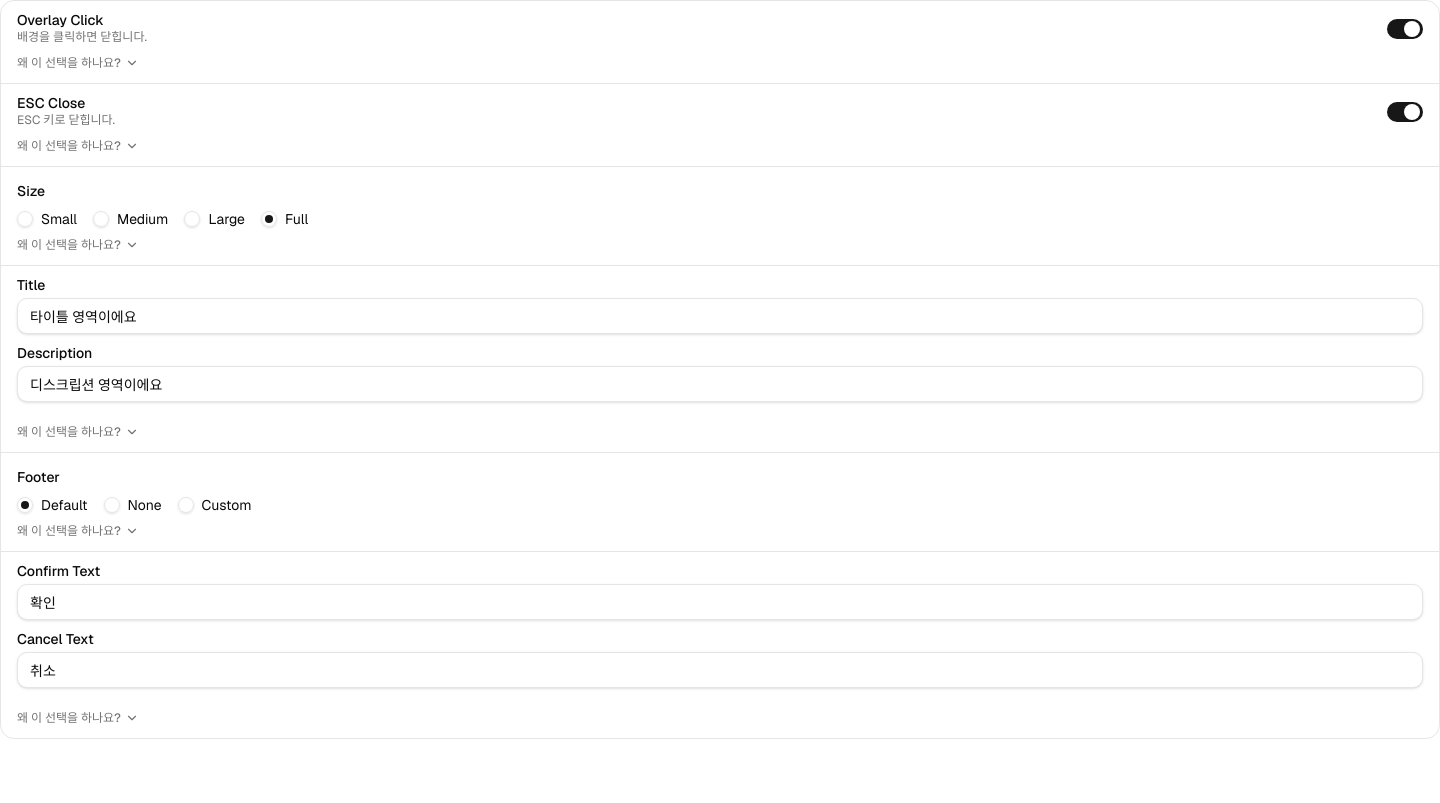
ModalControls › 고른 Size 값에 맞는 판단 근거를 보여준다
Click the button "왜 이 선택을 하나요?" below "Small".
click(78, 245)  # box [17,237,139,253]
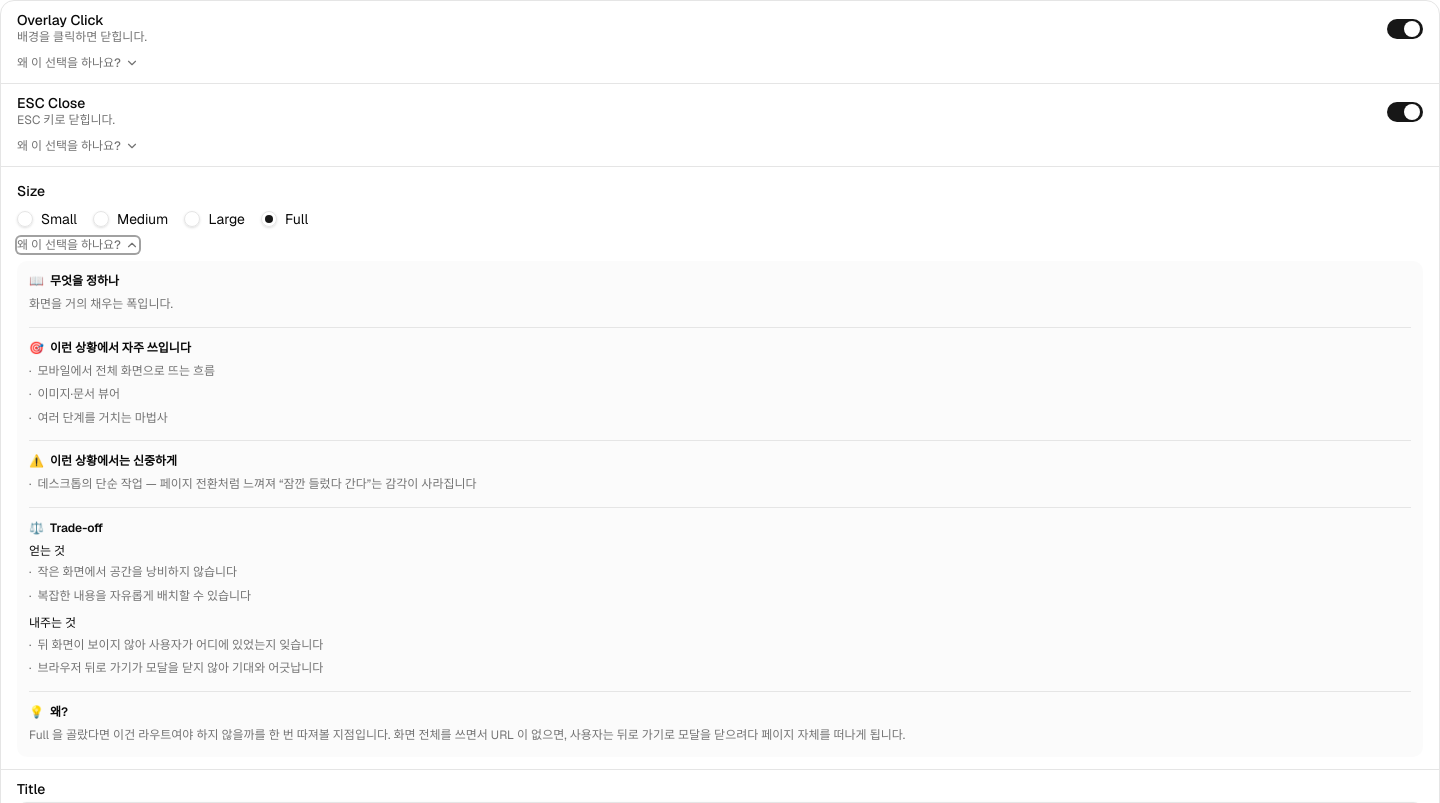
Result: the text "Full 을 골랐다면 이건 라우트여야 하지 않을까를 한 번 따져볼 지점입니다. 화면 전체를 쓰면서 URL 이 없으면, 사용자는 뒤로 가기로 모달을 닫으려다 페이지 자체를 떠나게 됩니다." is shown at [29,726,905,742]
